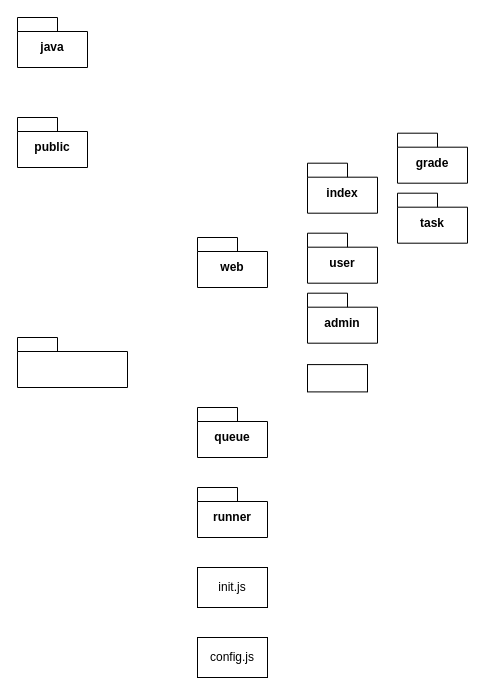
Image size: 485x695. Some labels were removed from this diagram. Each missing label, with the box of its shape:
app.js: (306, 364, 368, 392)
src: (16, 336, 128, 388)
